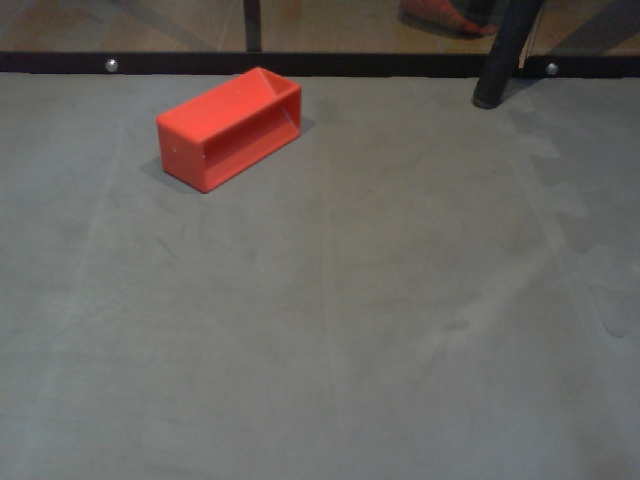RedSample: (153, 65, 304, 197)
